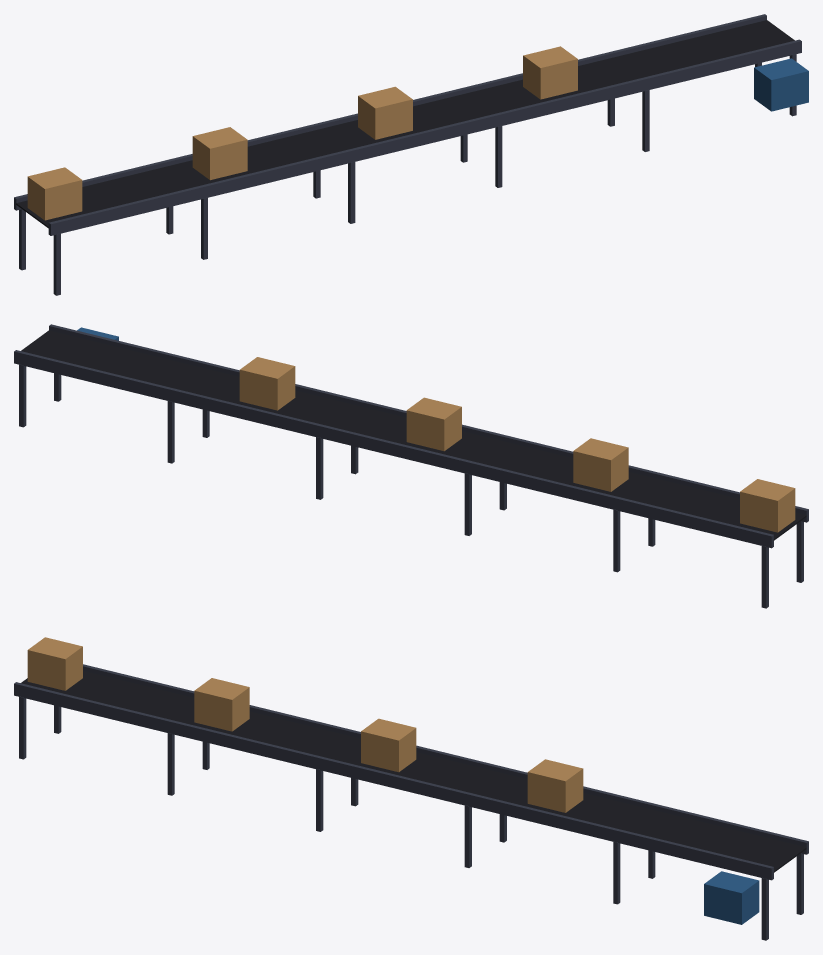
Rendered from ind-011.glb.
3 renders of one model, top to bottom at view 1: azimuth 30°, elevation 25°; view 2: azimuth 150°, elevation 25°; view 3: azimuth 330°, elevation 25°, orthographic.
Visible parts, largest first — view 1: dark_steel, conveyor_belt, cardboard, machine_blue; view 2: dark_steel, conveyor_belt, cardboard; view 3: dark_steel, conveyor_belt, cardboard, machine_blue.
Boxes of the visible parts, x1,y1,x2,y2 form: dark_steel: (14, 14, 801, 295); conveyor_belt: (16, 20, 794, 228); cardboard: (27, 46, 577, 220); machine_blue: (754, 58, 808, 111); dark_steel: (14, 324, 808, 608); conveyor_belt: (21, 330, 806, 540); cardboard: (239, 357, 795, 532); dark_steel: (14, 664, 808, 940); conveyor_belt: (21, 670, 806, 872); cardboard: (27, 637, 583, 812); machine_blue: (704, 871, 759, 924).
Bounding box in the file's own units: 10 × 1.27 × 1.28.
